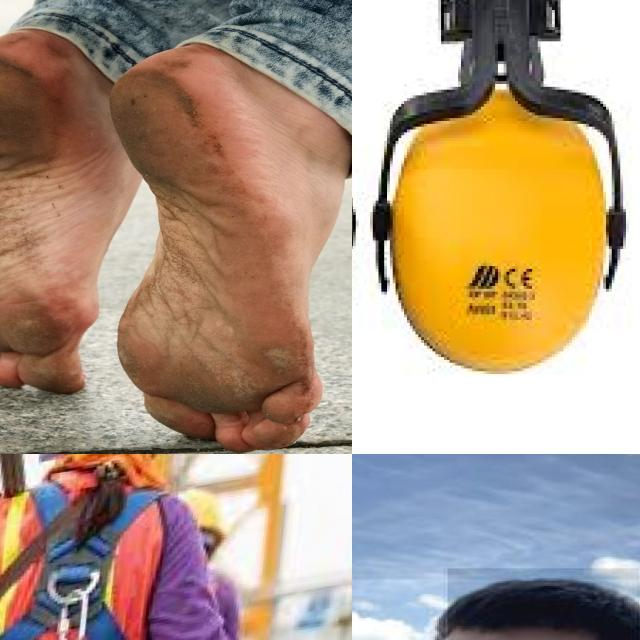Barefoots: (108, 43, 324, 453), (0, 29, 102, 393)
Ear-protection: (387, 81, 609, 374)
Harness: (0, 477, 155, 640)
head_nohelmet: (447, 568, 640, 640)
person: (352, 579, 640, 640)
